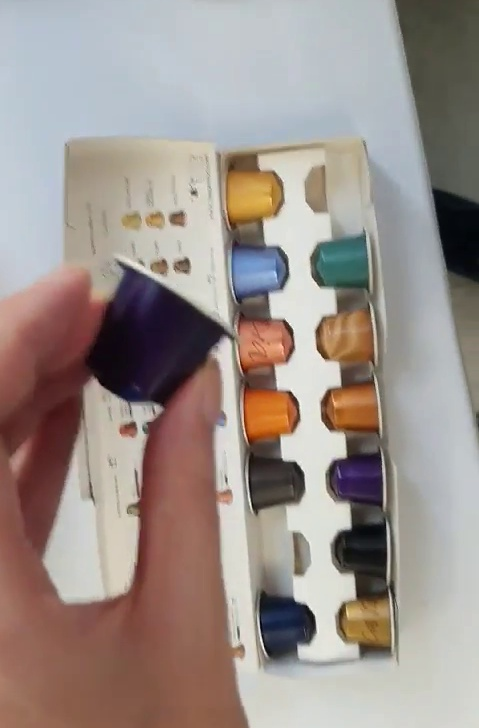capsule_2: (87, 247, 244, 406)
